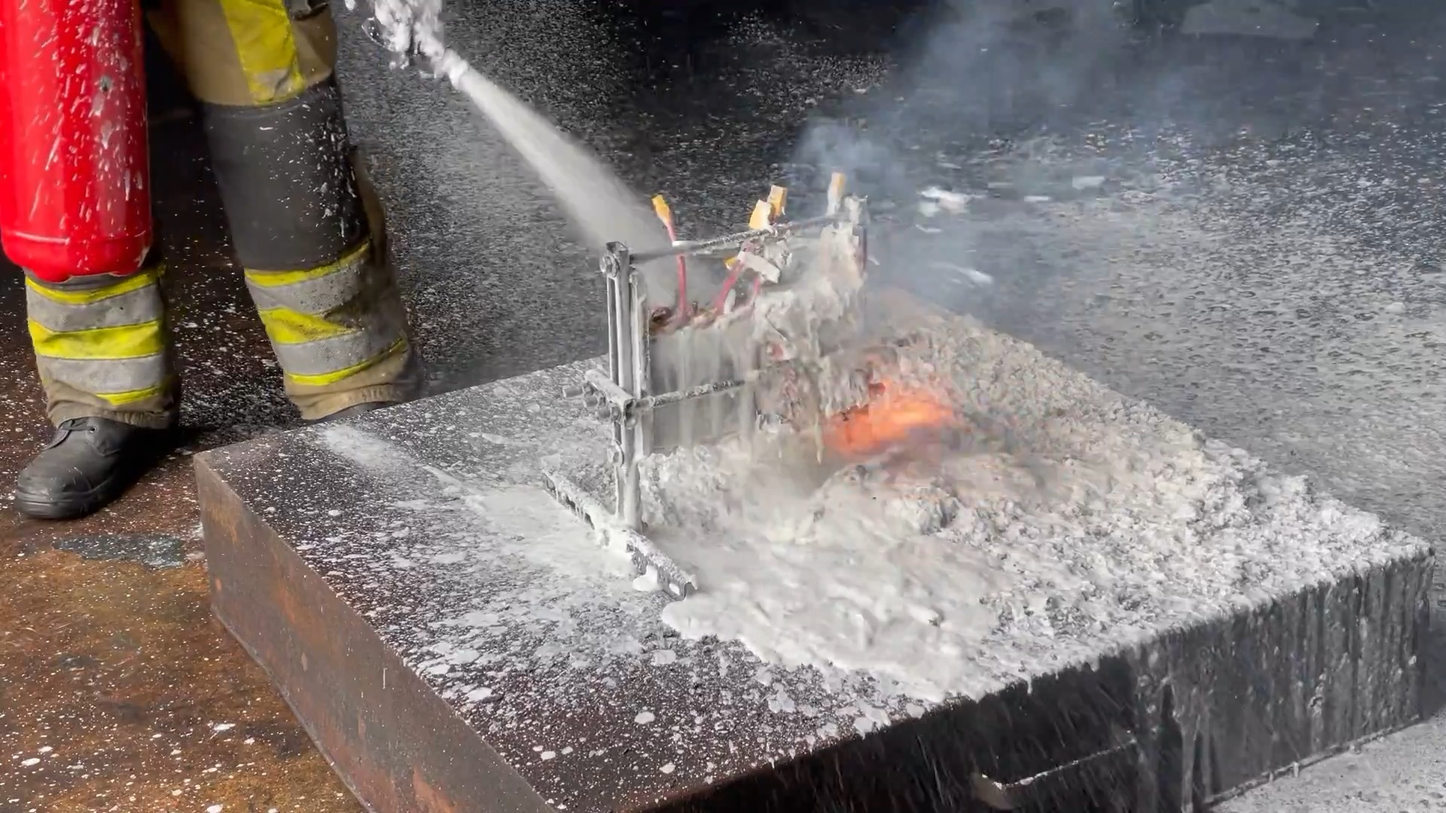fire: (819, 346, 968, 460)
smoke: (771, 0, 1253, 364)
